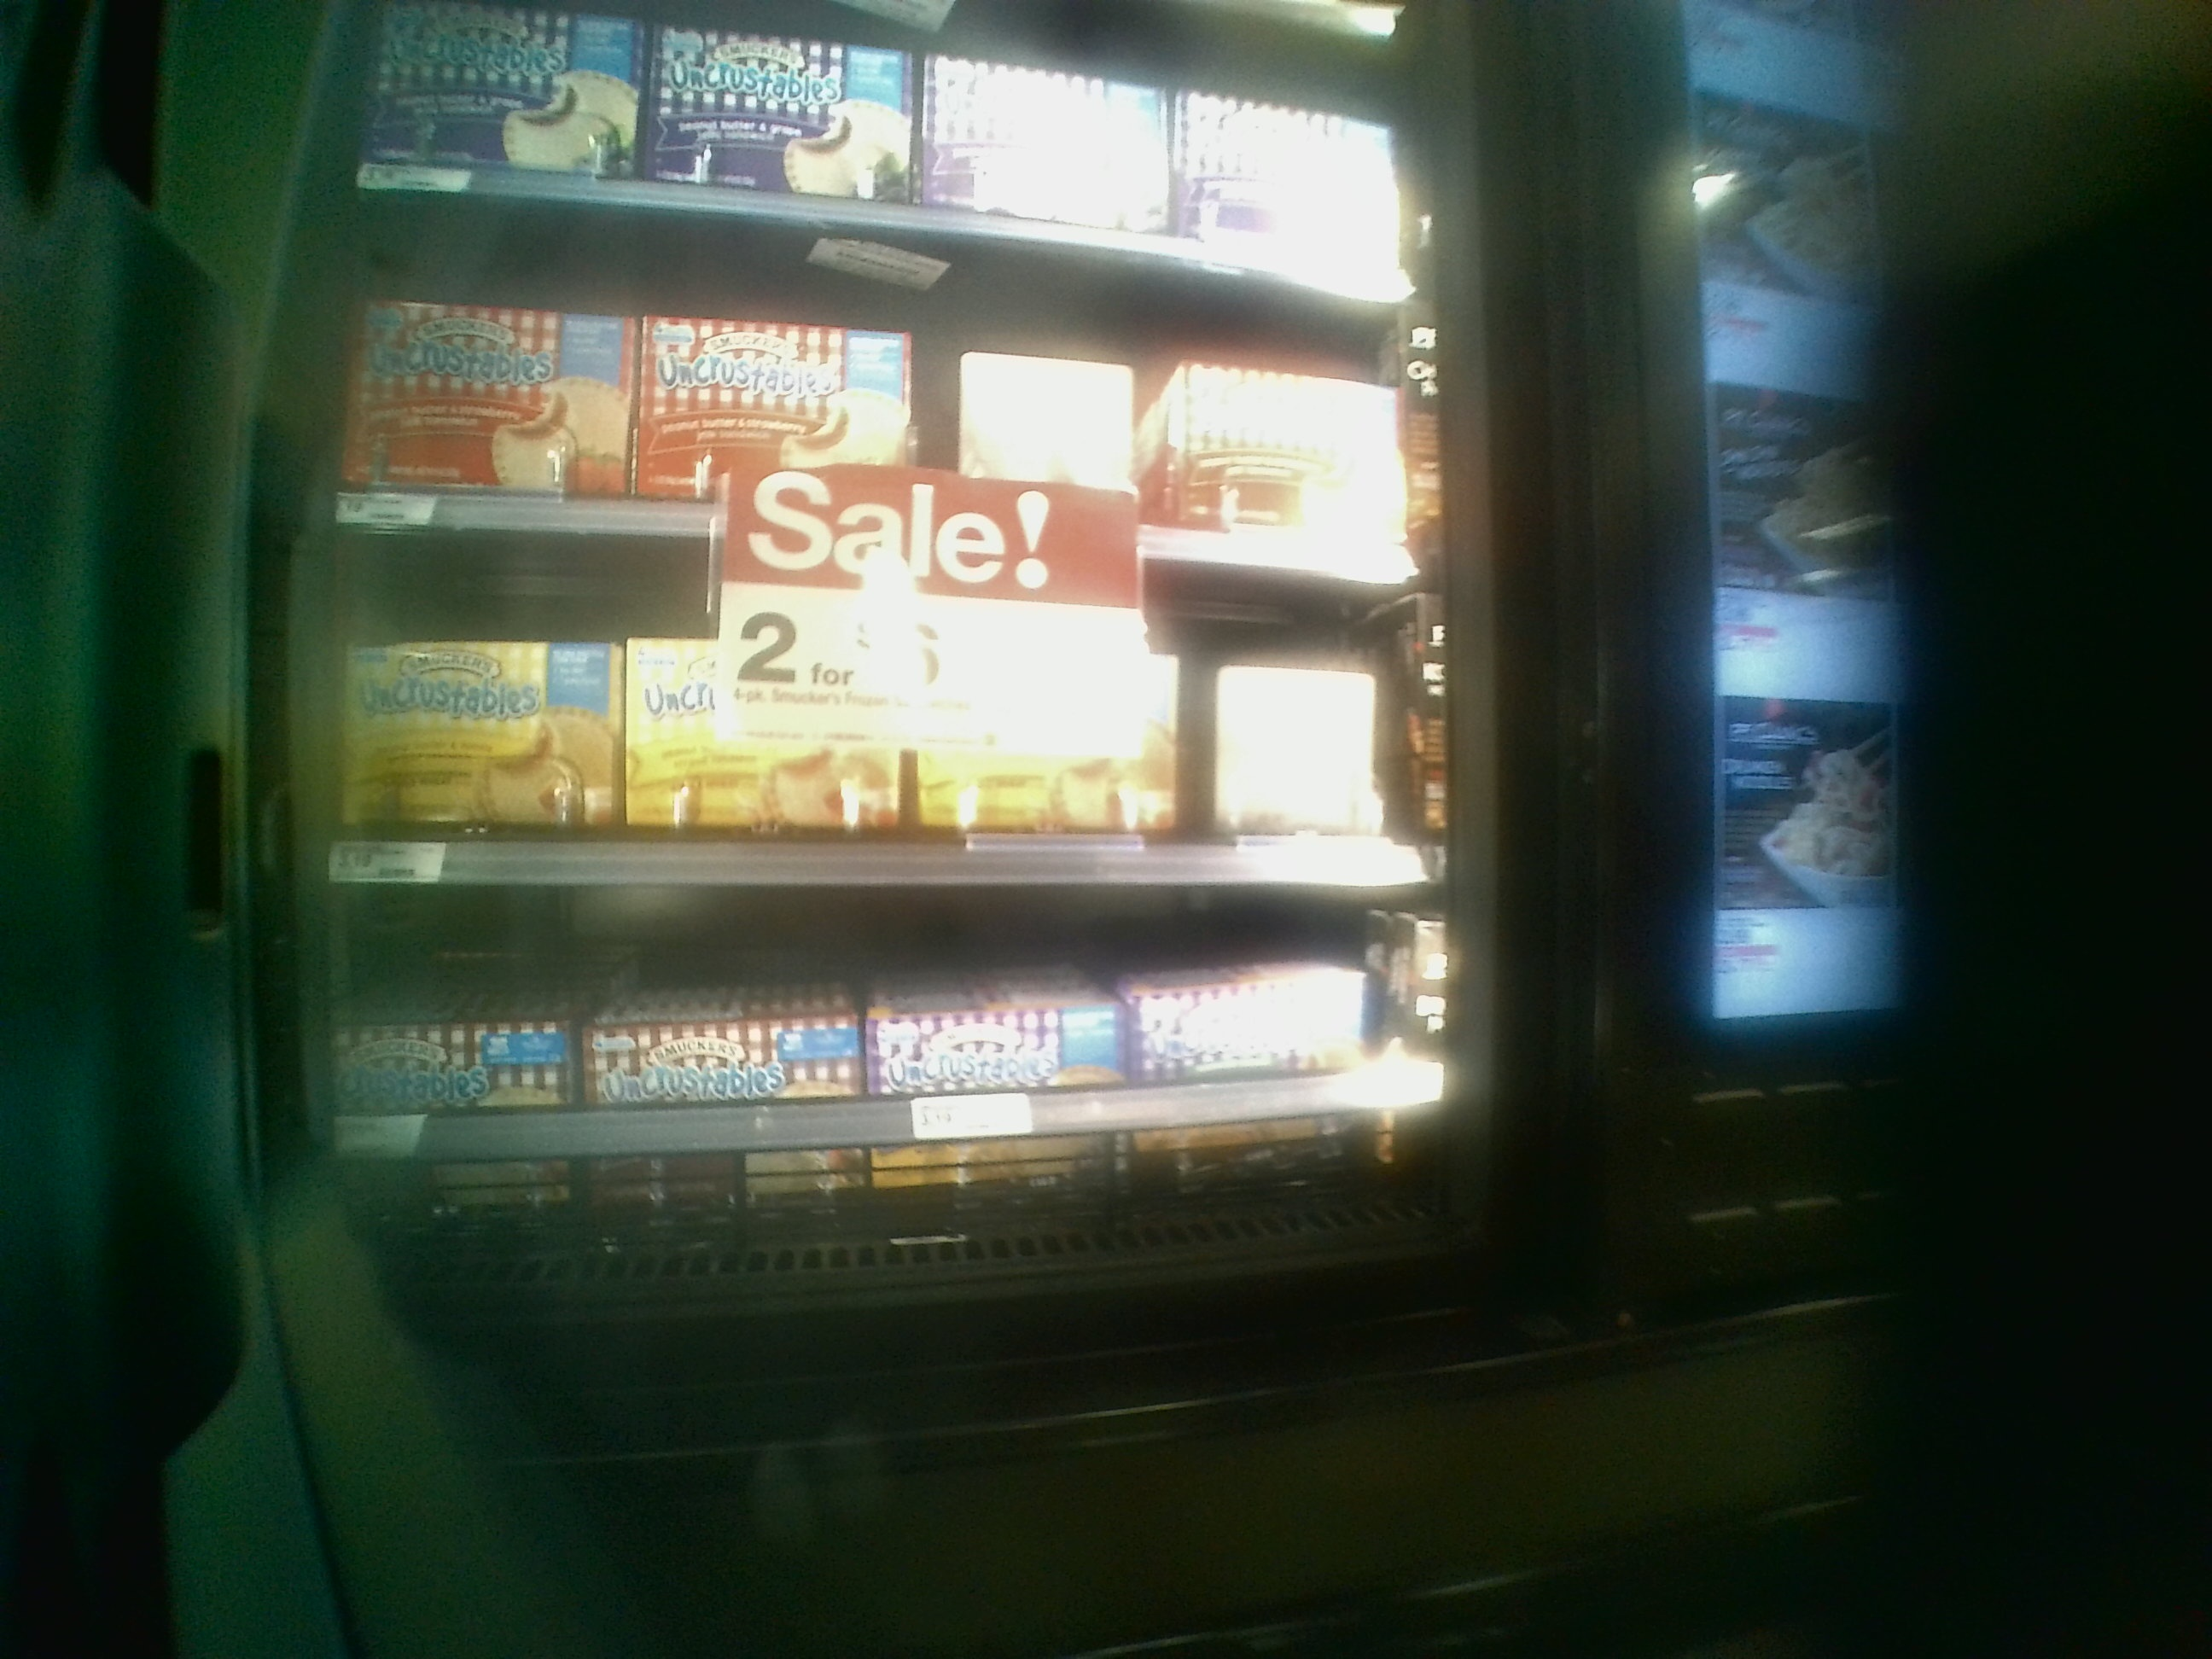shelf: (312, 870, 1498, 1310), (338, 188, 1421, 561), (327, 525, 1416, 871)
